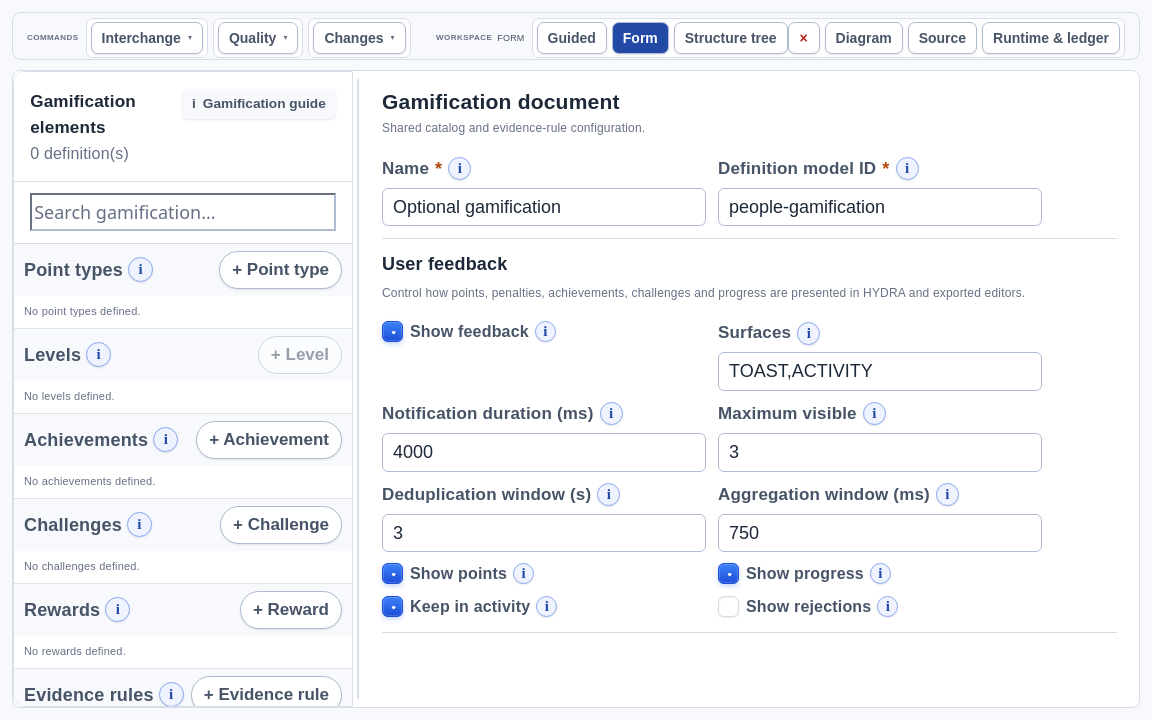
it: gamification designer forms › shows contextual help for evidence-rule identifiers
Click the button "+ Evidence rule".
click(266, 695)  # box [191,676,342,714]
(page scrolled)
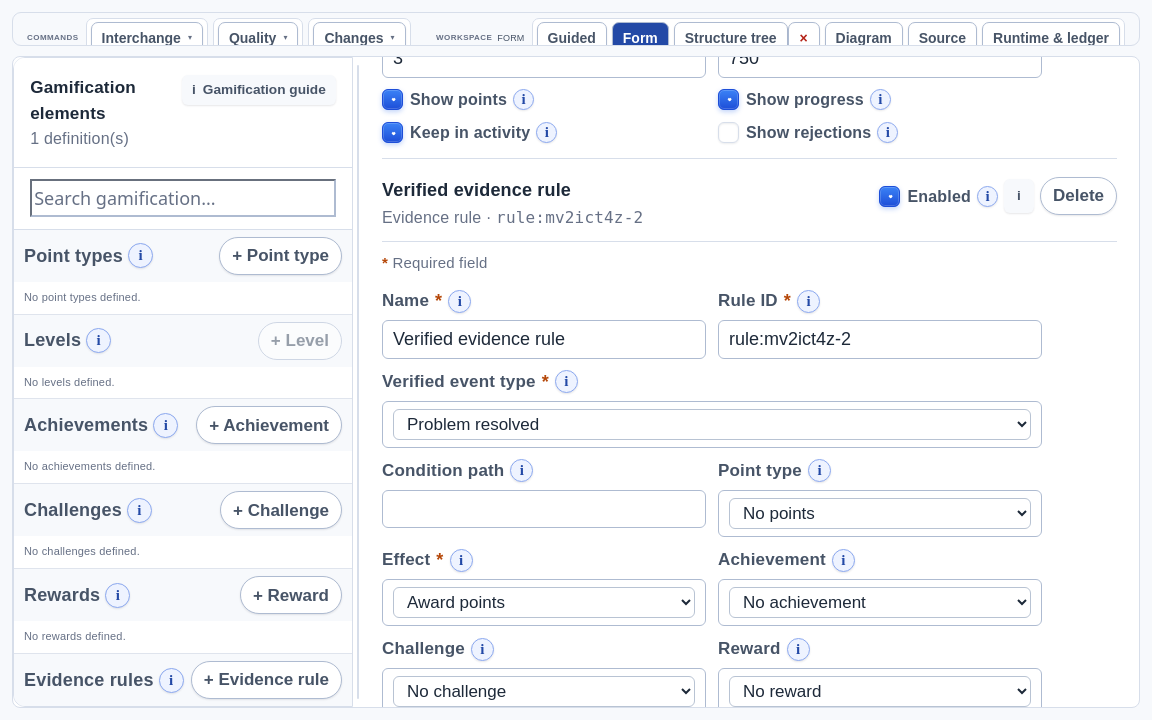
Check: the field labelled "Rule ID" is shown, box [718,320,1042,359]
Click the button named "Information about Verified event type".
click(566, 382)  # box [555,370,578,393]
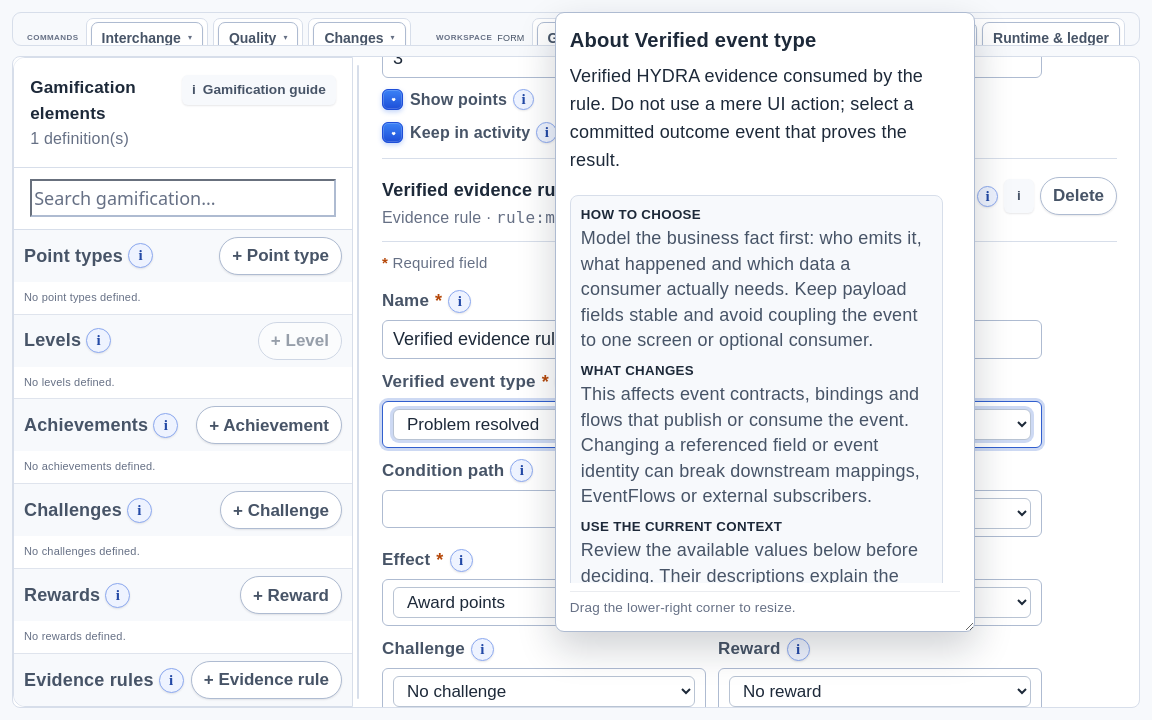
Check: the tooltip shows "Do not use a mere UI action", box [570,66,923,170]
